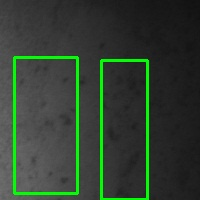pitted_surface: (14, 57, 77, 193), (101, 60, 147, 199)
